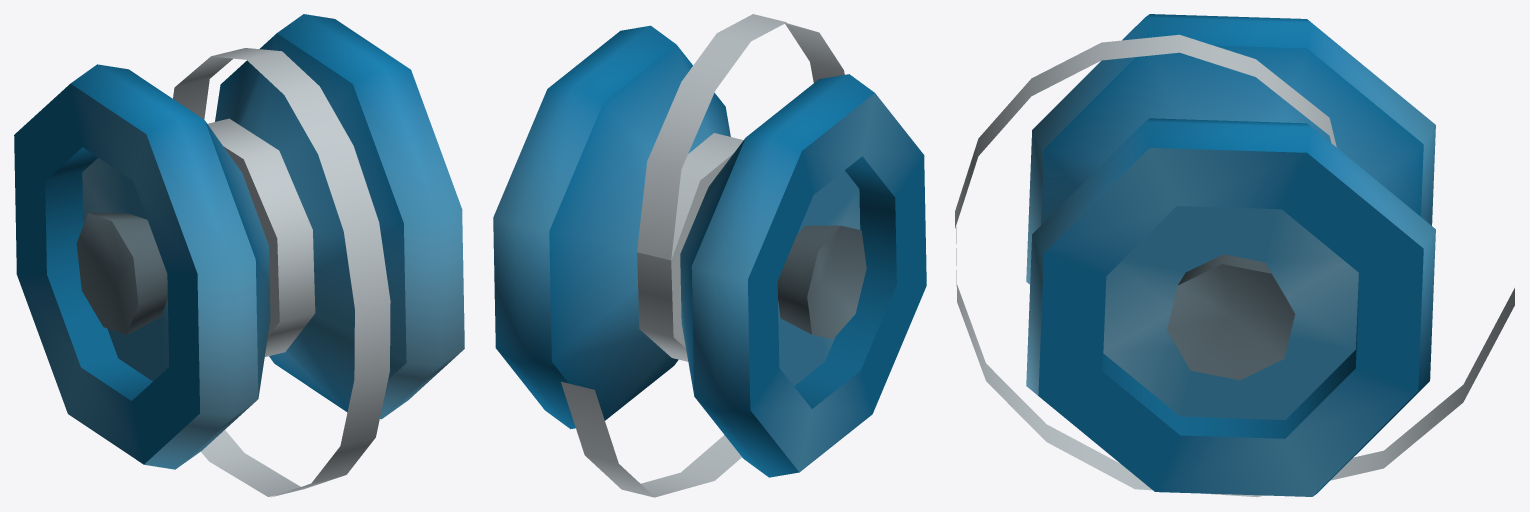
Rendered from grenade_Yoyo.glb.
The picture shows the model from 3 angles, left to right: view 1: azimuth 30°, elevation 25°; view 2: azimuth 150°, elevation 25°; view 3: azimuth 270°, elevation 25°; orthographic projection. The views are drawn at different scales.
Parts seen in each view (by area): view 1: grenade_Yoyo; view 2: grenade_Yoyo; view 3: grenade_Yoyo.
Boxes of the visible parts, bbox=[...] form: grenade_Yoyo: bbox=[14, 14, 464, 497]; grenade_Yoyo: bbox=[493, 14, 926, 497]; grenade_Yoyo: bbox=[955, 14, 1514, 497].
Size of the model in its own units: 0.0957 by 0.1485 by 0.1695.
